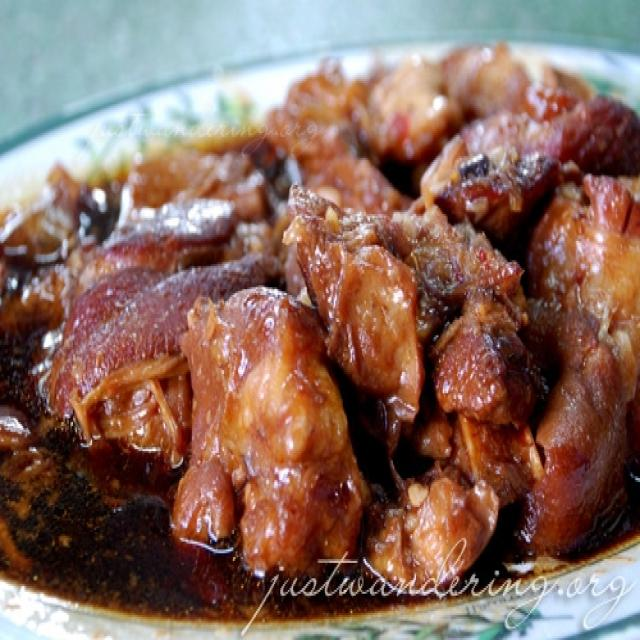汤锅炖物: (23, 81, 621, 574)
